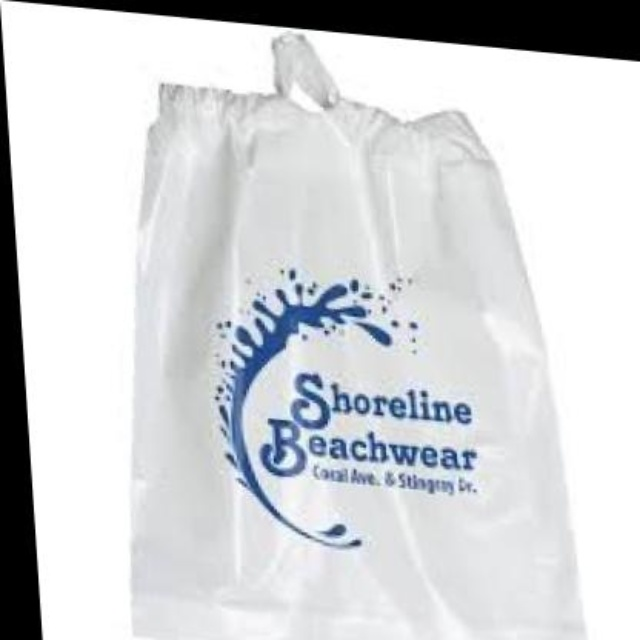trash: (132, 34, 583, 638)
